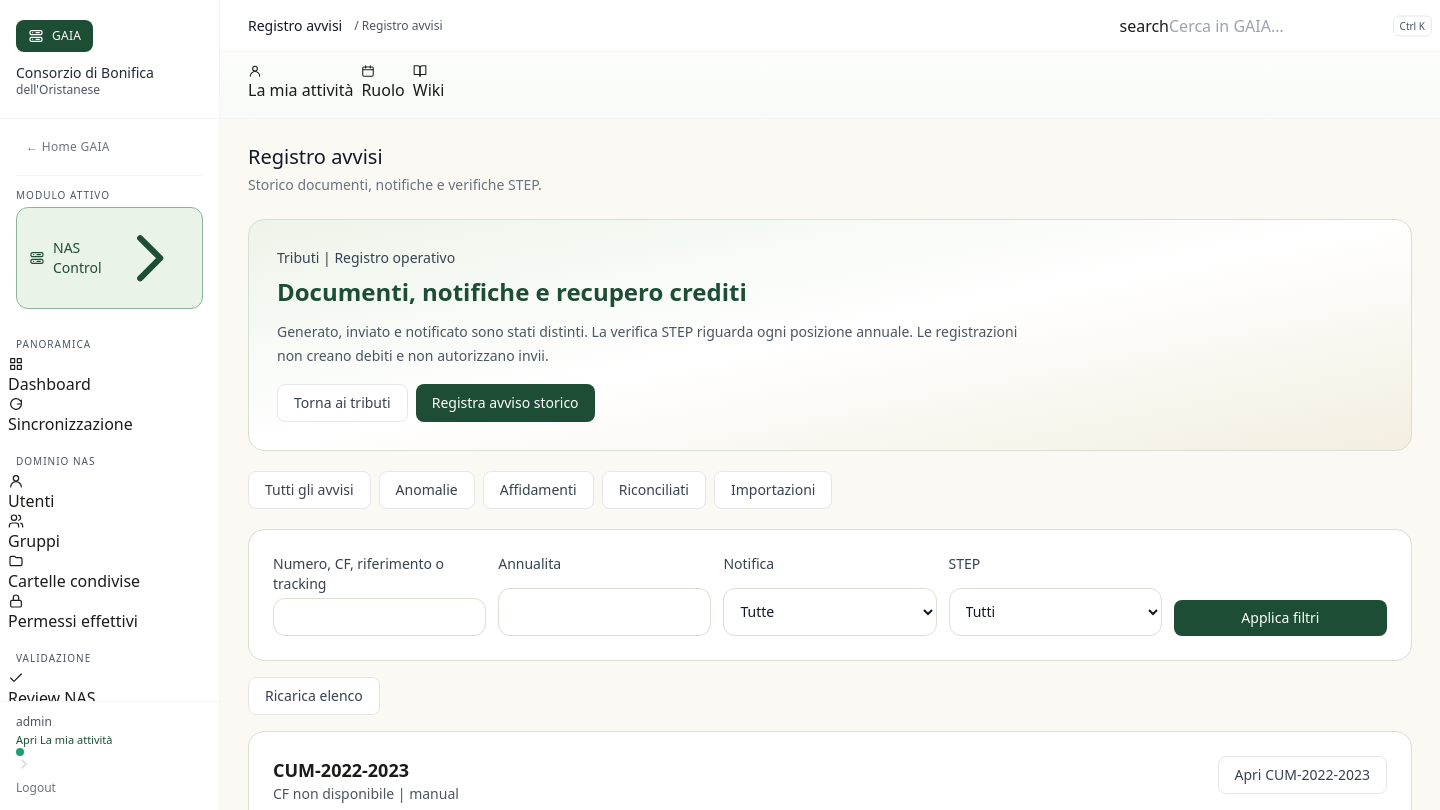
Test case: registro avvisi workspace › renders missing metadata and unknown anomalies without claiming notification
Click the button "Apri CUM-2022-2023": (1302, 775) [1218,756,1387,794]
(page scrolled)
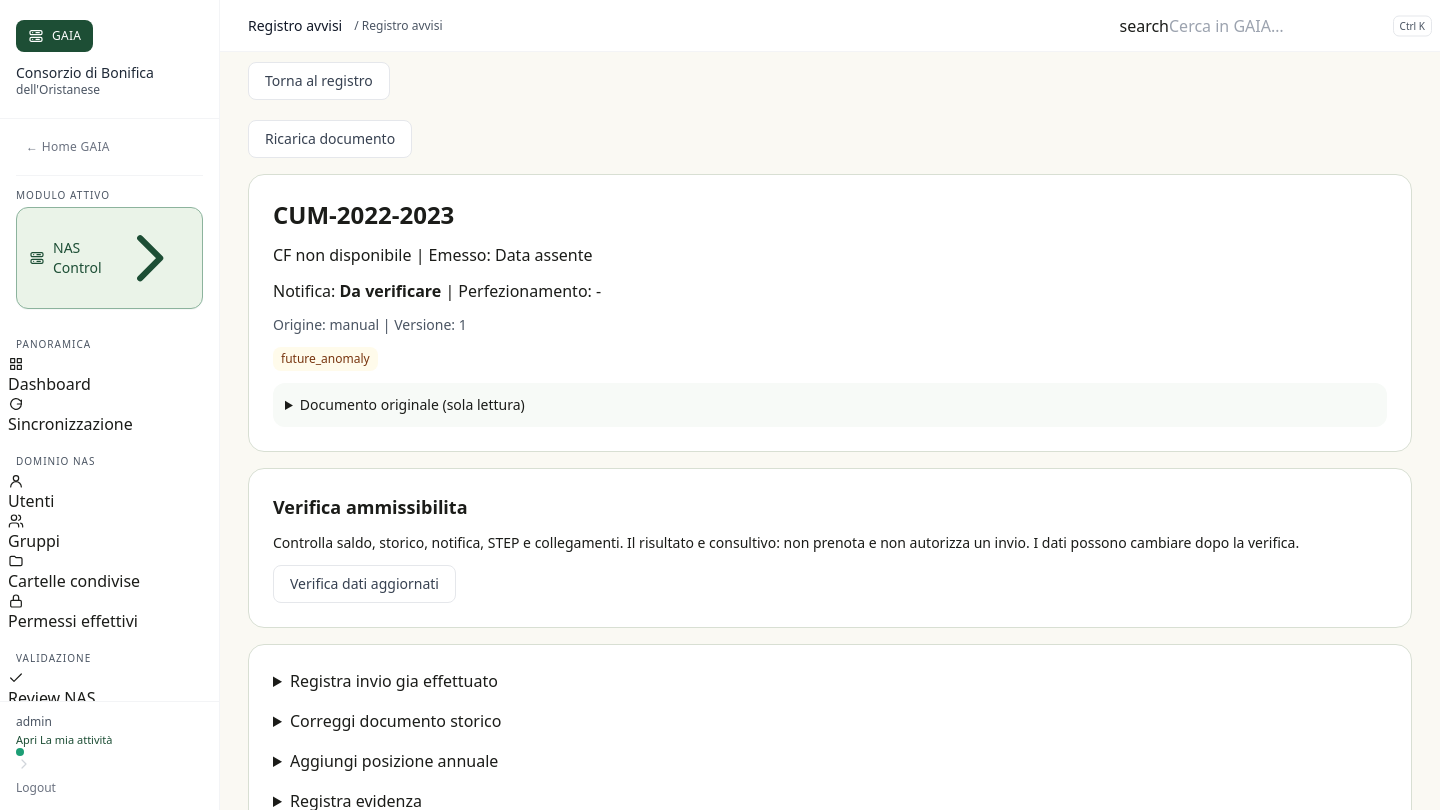
Expected: the heading "CUM-2022-2023" is shown, [273,198,454,231]
Expected: the text "CF non disponibile | Emesso: Data assente" is shown, [273,244,593,266]
Click the heading "Documento originale (sola lettura)": (412, 404) [300,395,525,414]
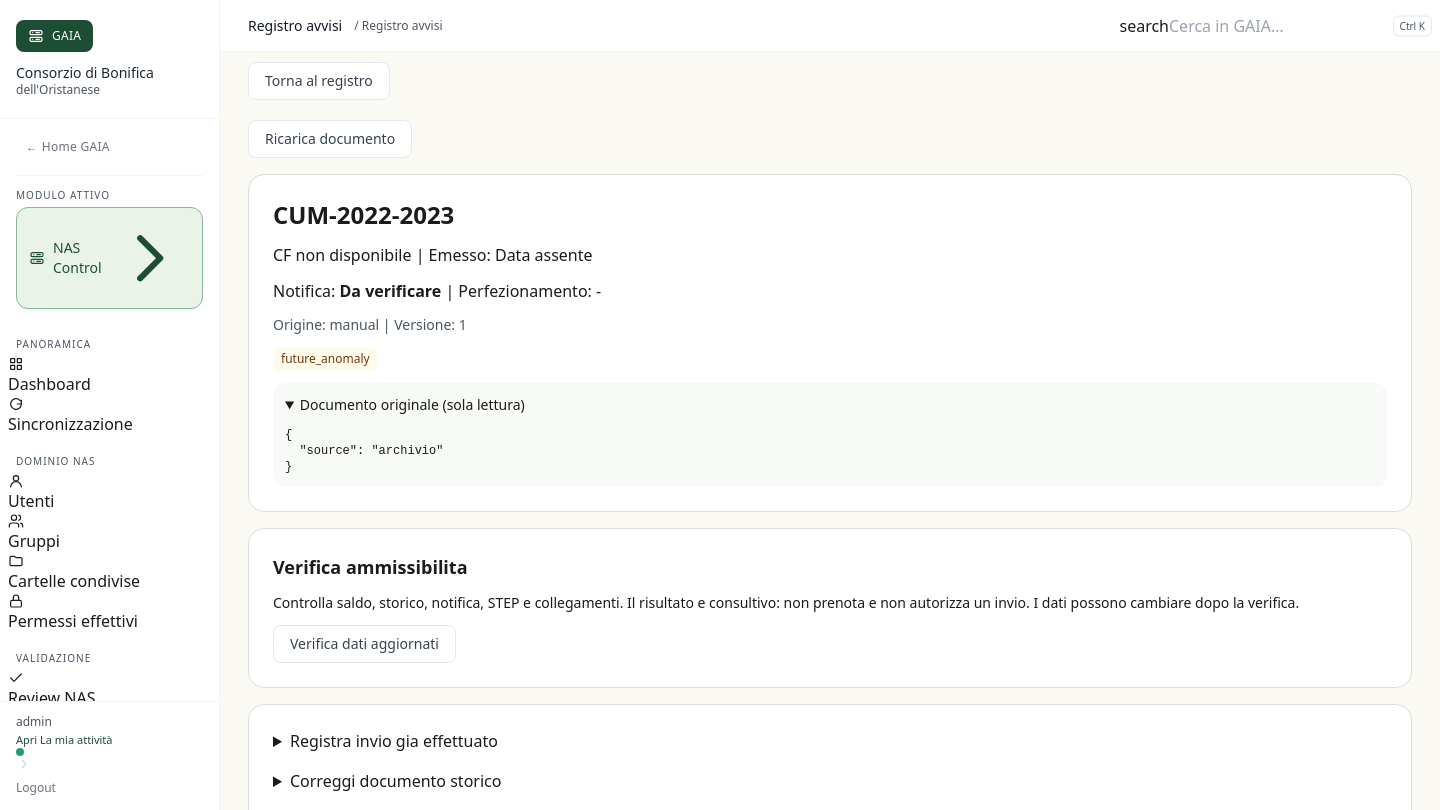
Expected: the text "{ \"source\": \"archivio\" }" is shown, [285,428,443,474]
